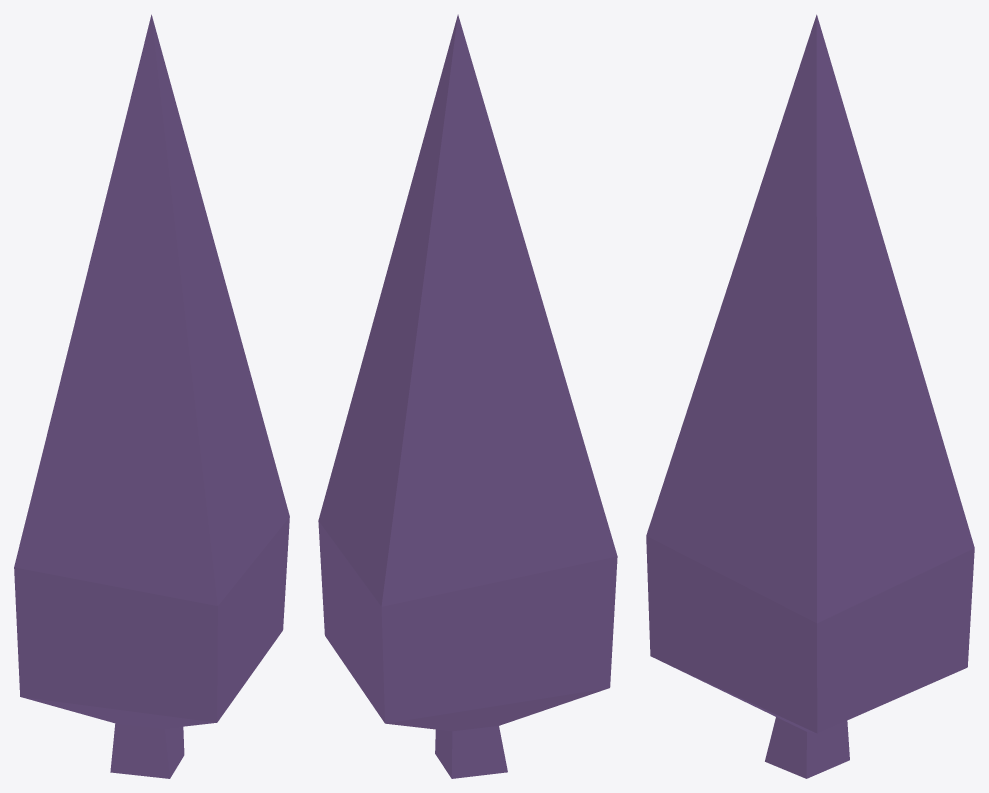
The model's file is tree04.fbx.
3 views of the same model, side by side, from view 1: azimuth 30°, elevation 25°; view 2: azimuth 150°, elevation 25°; view 3: azimuth 270°, elevation 25° (orthographic).
Visible parts, largest first — view 1: treeW3_02; view 2: treeW3_02; view 3: treeW3_02.
Boxes of the visible parts, x1,y1,x2,y2 form: treeW3_02: (14,14,289,778); treeW3_02: (318,14,617,778); treeW3_02: (646,14,974,778).
Bounding box in the file's own units: 2.92 × 7.25 × 2.87.
